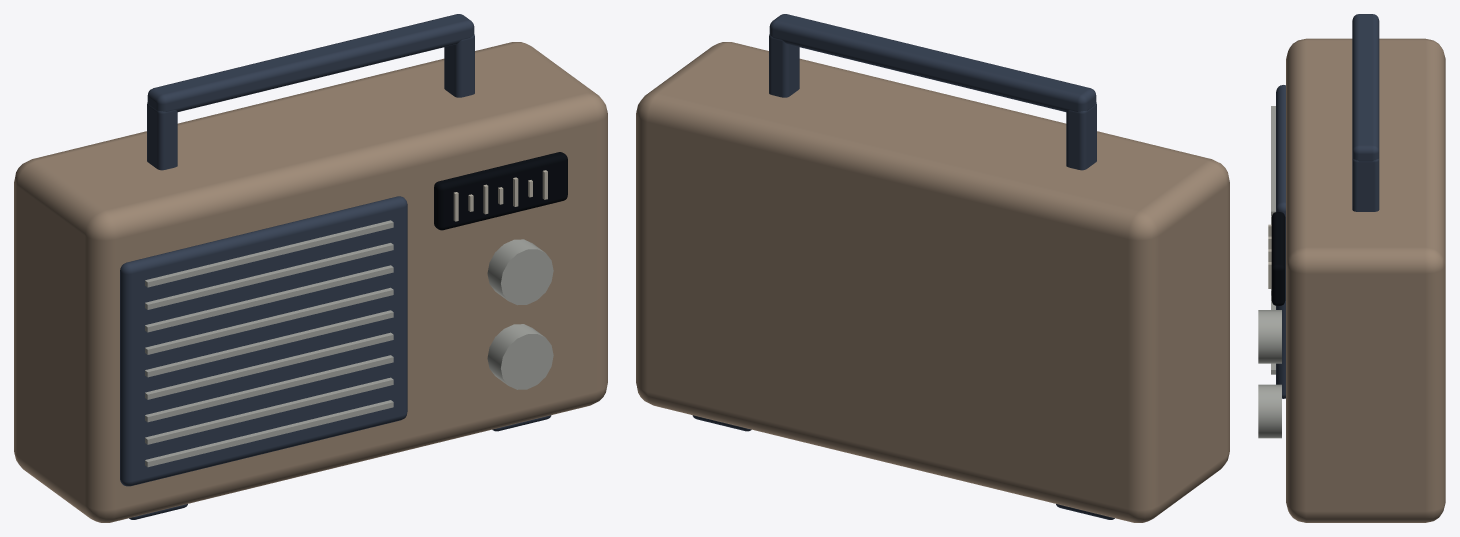
The model's file is ch1-radio.glb.
3 renders of one model, left to right at view 1: azimuth 30°, elevation 25°; view 2: azimuth 150°, elevation 25°; view 3: azimuth 270°, elevation 25°, orthographic. The views are drawn at different scales.
Parts seen in each view (by area): view 1: wood, frame, trim, void, linen; view 2: wood, frame; view 3: wood, frame, trim, void, linen.
Part boxes in pixels (x1=…): wood: x1=14, y1=42, x2=607, y2=522; frame: x1=120, y1=14, x2=551, y2=519; trim: x1=145, y1=220, x2=553, y2=467; void: x1=434, y1=152, x2=567, y2=230; linen: x1=453, y1=170, x2=547, y2=221; wood: x1=636, y1=42, x2=1229, y2=522; frame: x1=692, y1=14, x2=1114, y2=519; wood: x1=1286, y1=38, x2=1445, y2=522; frame: x1=1276, y1=14, x2=1379, y2=398; trim: x1=1258, y1=106, x2=1281, y2=438; void: x1=1271, y1=212, x2=1285, y2=305; linen: x1=1268, y1=224, x2=1271, y2=288.
Size of the model in its own units: 0.315 by 0.228 by 0.1115.
